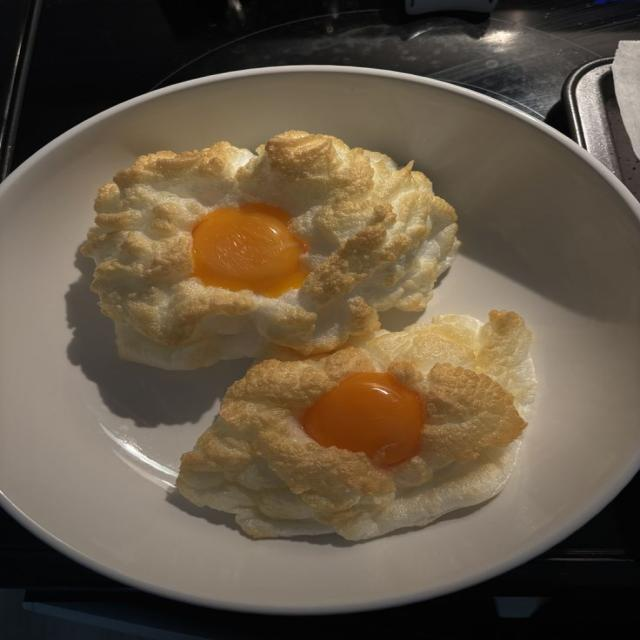fryed egg: (83, 132, 457, 369), (178, 312, 535, 540)
